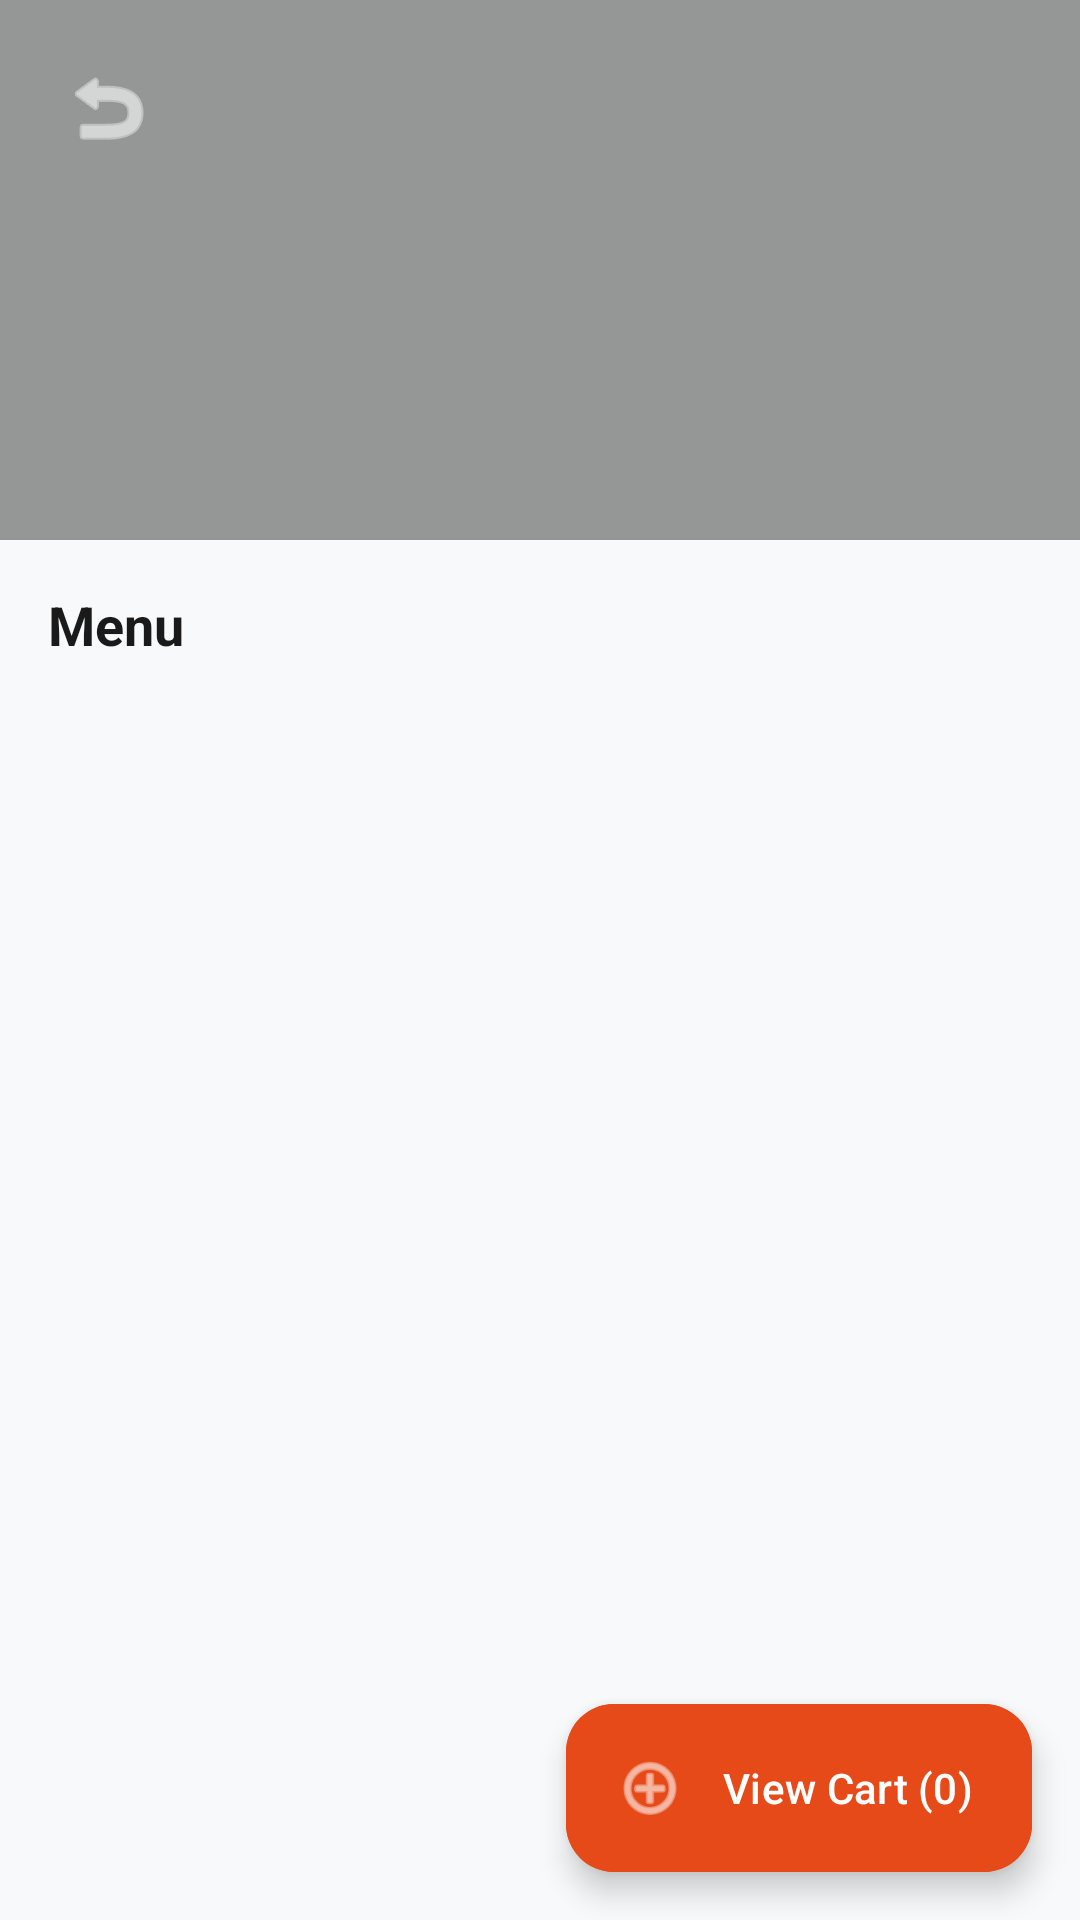

Locate icon controls on the screen. Image size 1080×1920, boxes as bbox=(x1, y1, x2, y2).
revert: bbox=(75, 78, 143, 140)
